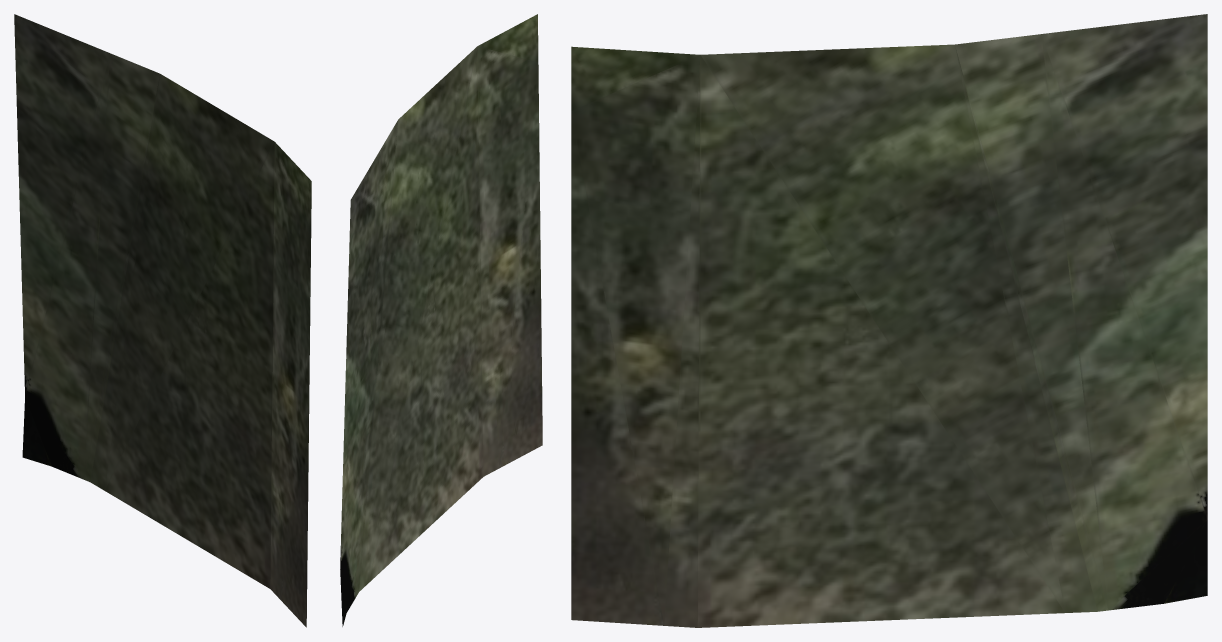
3 views of the same model, side by side, from view 1: azimuth 30°, elevation 25°; view 2: azimuth 150°, elevation 25°; view 3: azimuth 270°, elevation 25° (orthographic). The views are drawn at different scales.
Bounding box in the file's own units: 0.8955 × 5.9 × 5.9.
Materials: 2 (2 with a texture image).
